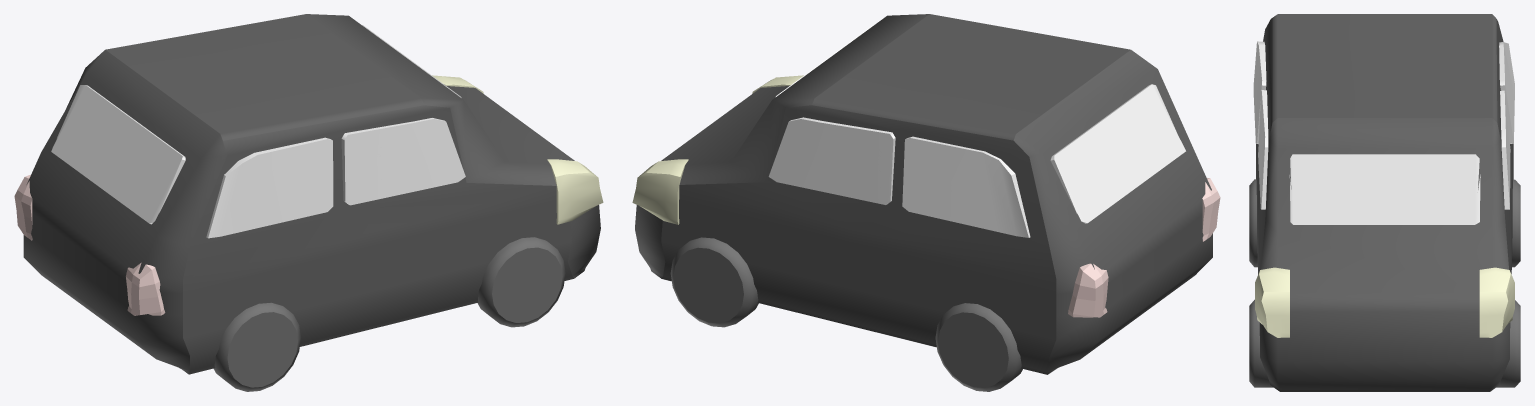
File: CarroNegro.fbx
3 renders of one model, left to right at view 1: azimuth 30°, elevation 25°; view 2: azimuth 150°, elevation 25°; view 3: azimuth 270°, elevation 25°, orthographic. The views are drawn at different scales.
Visible parts, largest first — view 1: pCube1, pCube10, pCube7, pCube8, pCylinder1, pCylinder2, pCube9, pCube11; view 2: pCube1, pCube10, pCube4, pCube3, pCylinder3, pCylinder4, pCube9, pCube11; view 3: pCube1, pCube6, pCube9, pCube4, pCylinder1, pCylinder3, pCube8, pCube3, pCube7, pCylinder4, pCylinder2.
Part boxes in pixels (left/top/right/bottom): pCube1: left=23, top=14, right=600, bottom=374; pCube10: left=51, top=85, right=185, bottom=224; pCube7: left=206, top=137, right=333, bottom=238; pCube8: left=341, top=118, right=465, bottom=205; pCylinder1: left=477, top=237, right=565, bottom=327; pCylinder2: left=213, top=302, right=300, bottom=391; pCube9: left=432, top=75, right=603, bottom=224; pCube11: left=14, top=175, right=165, bottom=315; pCube1: left=635, top=14, right=1212, bottom=374; pCube10: left=1050, top=84, right=1185, bottom=223; pCube4: left=902, top=136, right=1030, bottom=237; pCube3: left=768, top=117, right=895, bottom=204; pCylinder3: left=670, top=237, right=758, bottom=327; pCylinder4: left=935, top=303, right=1022, bottom=391; pCube9: left=632, top=75, right=803, bottom=224; pCube11: left=1068, top=178, right=1220, bottom=317; pCube1: left=1256, top=14, right=1513, bottom=391; pCube6: left=1289, top=154, right=1480, bottom=224; pCube9: left=1255, top=267, right=1514, bottom=337; pCube4: left=1499, top=42, right=1514, bottom=143; pCylinder1: left=1249, top=299, right=1273, bottom=387; pCylinder3: left=1496, top=300, right=1520, bottom=387; pCube8: left=1258, top=90, right=1268, bottom=209; pCube3: left=1500, top=90, right=1510, bottom=209; pCube7: left=1253, top=41, right=1266, bottom=143; pCylinder4: left=1512, top=179, right=1520, bottom=267; pCylinder2: left=1249, top=179, right=1257, bottom=267.
Bounding box in the file's own units: 20.49 × 10.7 × 11.09.
